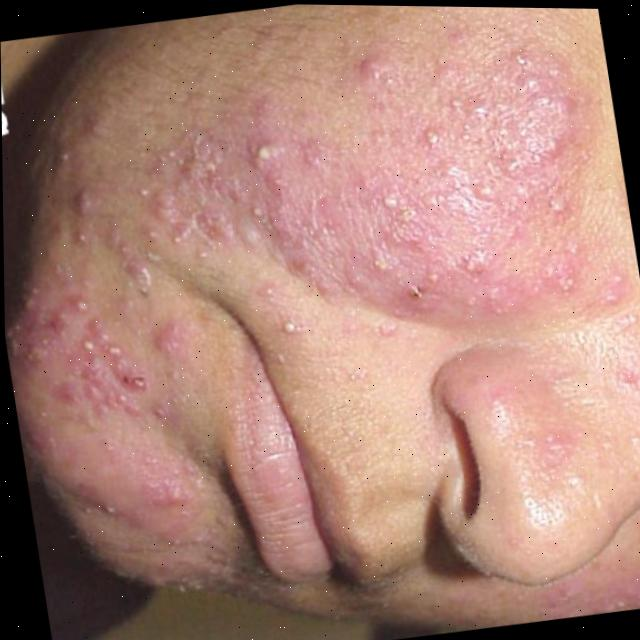Rosacea: (88, 1, 594, 283), (4, 299, 173, 579)
